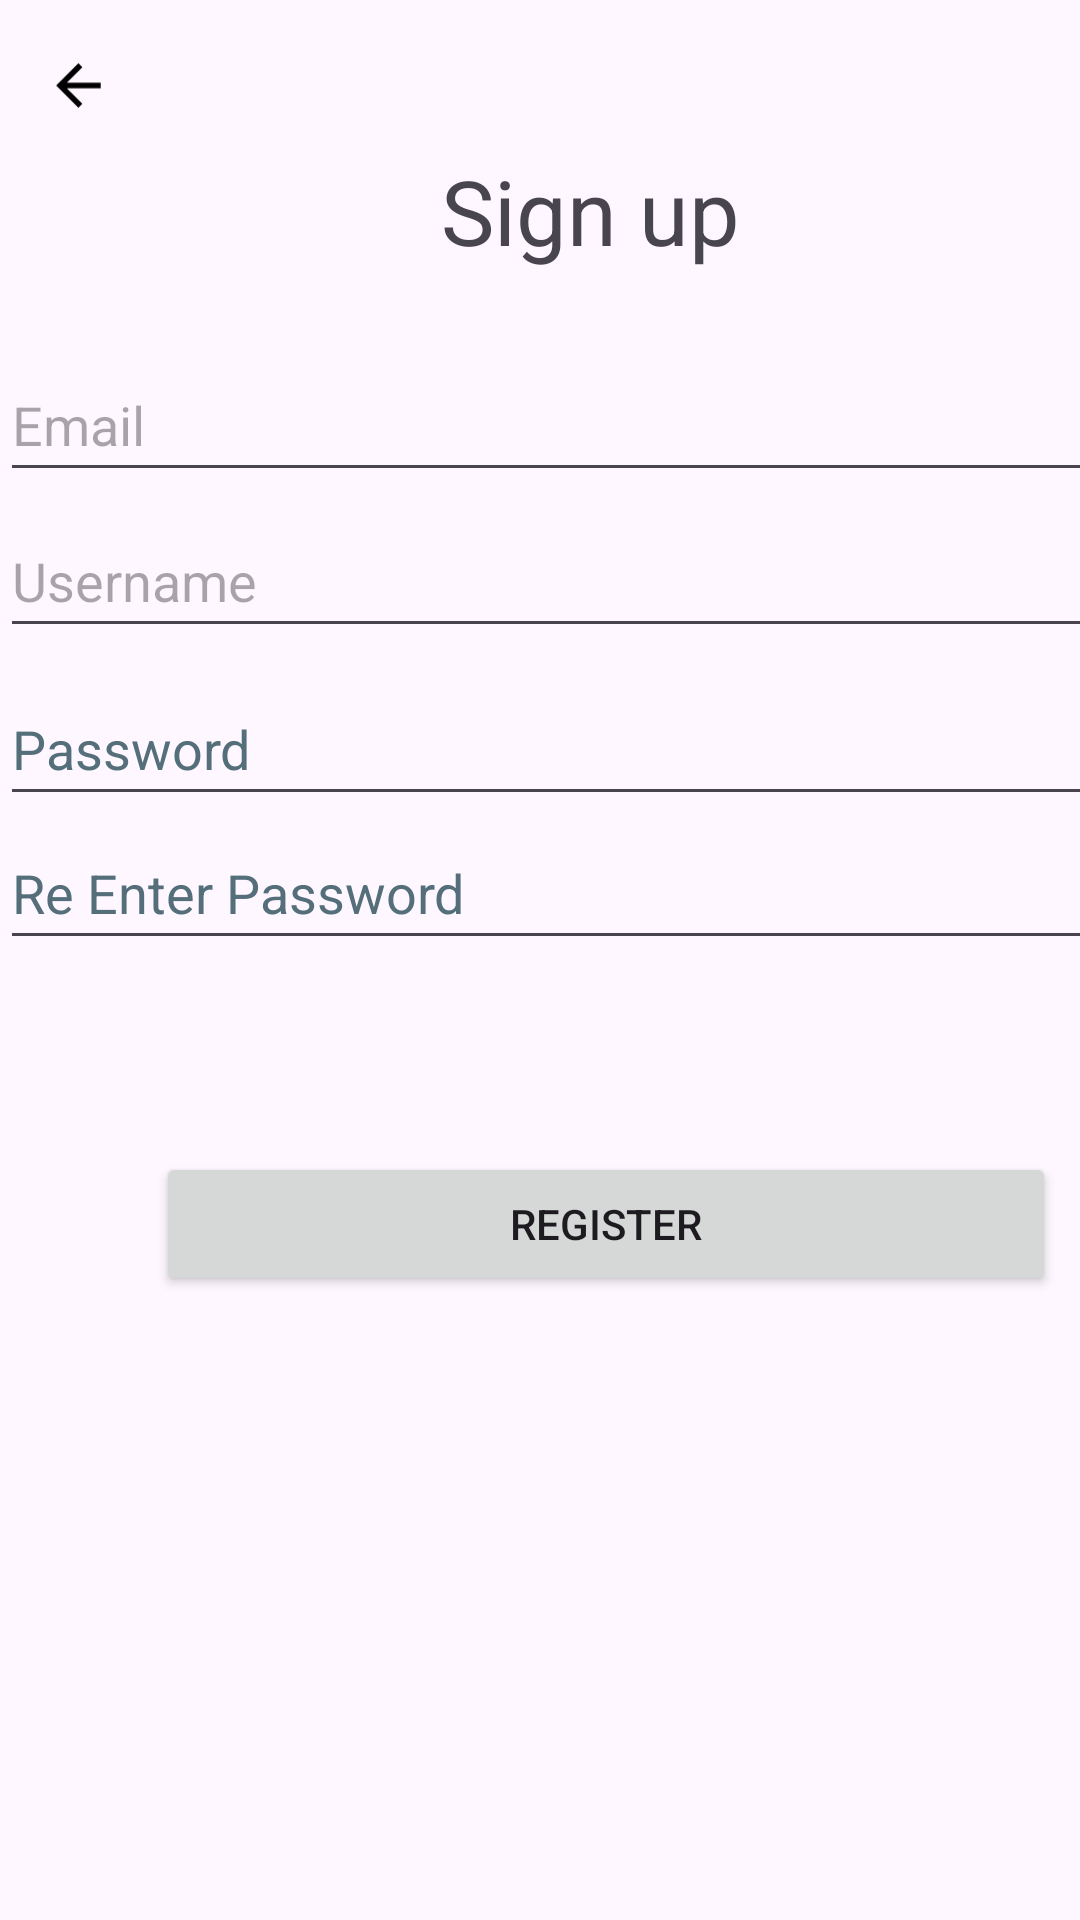

Screen size 1080 x 1920. Icon name, then its center in pixels as (x,y):
back: (78,85)
